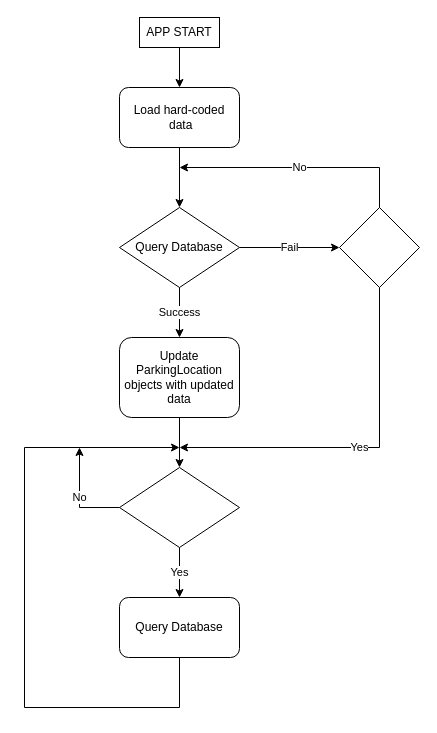
The diagram is 437 pixels wide and 733 high, and some of its shapes have lost their labels. Here are the shapes that lost their labels. From the top down, the centre of each, then its label:
At (x=379, y=247): "Timeout?".
At (x=179, y=507): "User on ParkingLocation Info Screen?".
